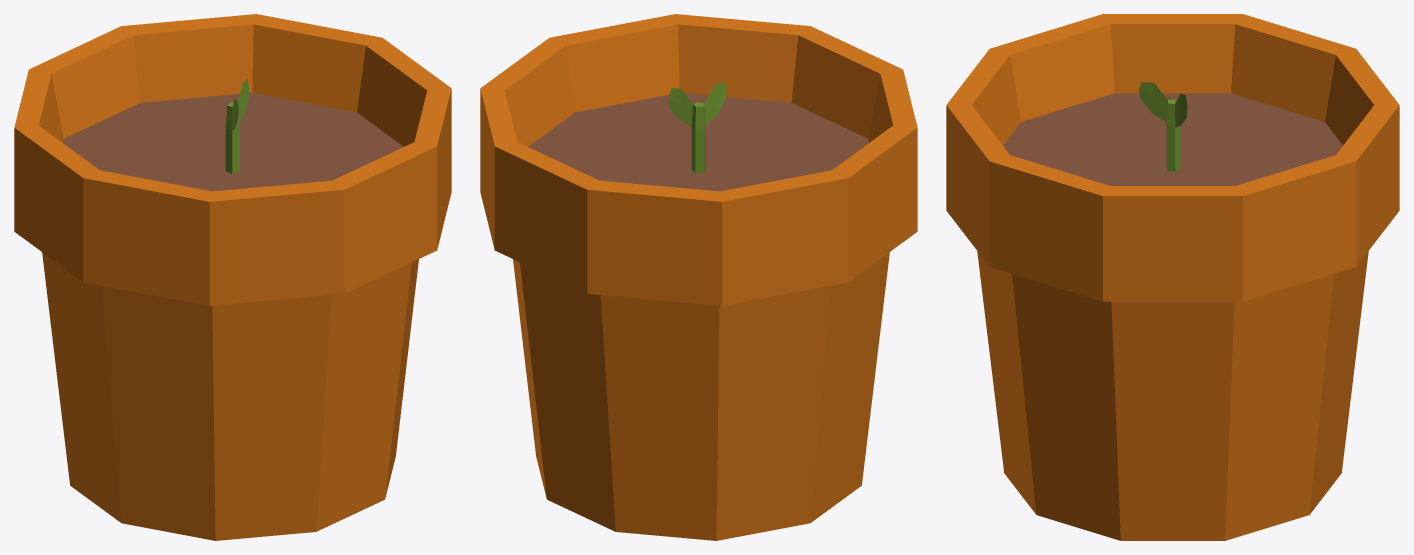
The model's file is flowerpot_sprout.fbx.
3 views of the same model, side by side, from view 1: azimuth 30°, elevation 25°; view 2: azimuth 150°, elevation 25°; view 3: azimuth 270°, elevation 25° (orthographic).
Visible parts, largest first — view 1: flowerpot_sprout; view 2: flowerpot_sprout; view 3: flowerpot_sprout.
Boxes of the visible parts, x1=… form: flowerpot_sprout: x1=14, y1=14, x2=451, y2=540; flowerpot_sprout: x1=480, y1=14, x2=917, y2=540; flowerpot_sprout: x1=946, y1=14, x2=1399, y2=540.
Bounding box in the file's own units: 214 × 213 × 225.
